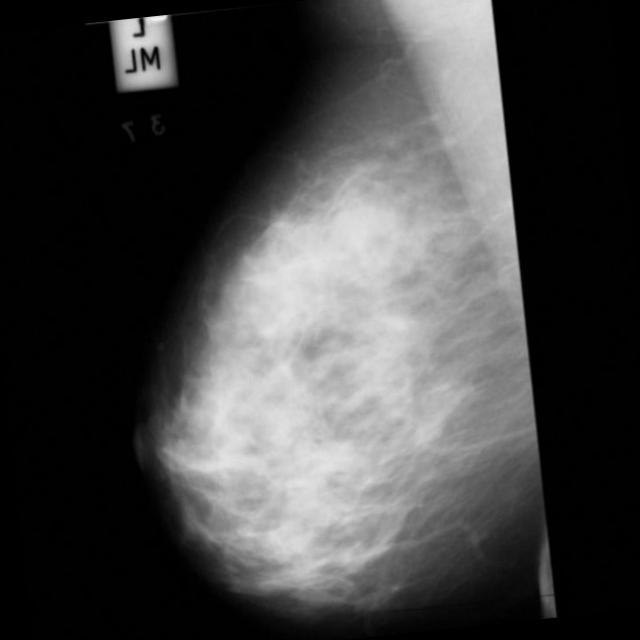ASYM: (292, 170, 444, 322)
